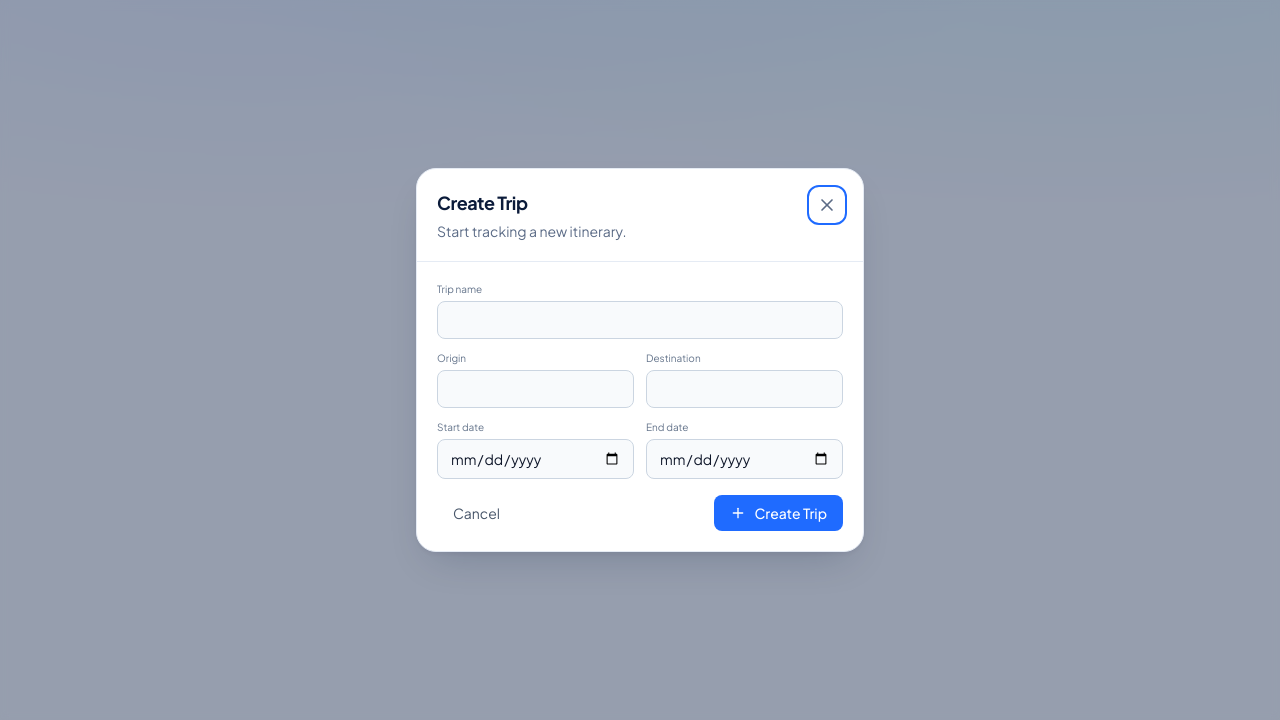
Scenario: CreateTripModal › rejects an end date before the start date
In the field labelled "Trip name": [640, 320] box [437, 301, 843, 339], type "Kyoto Weekend"
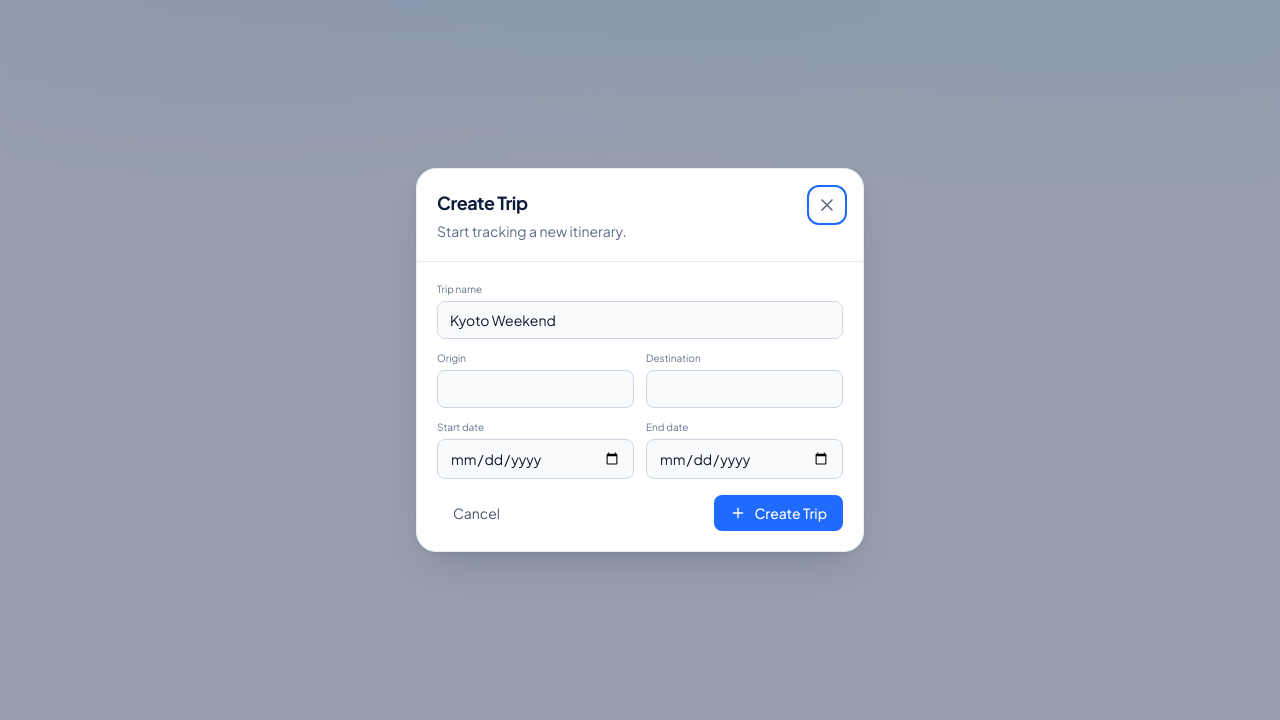
In the field labelled "Origin": [536, 389] box [437, 370, 634, 408], type "Tokyo"
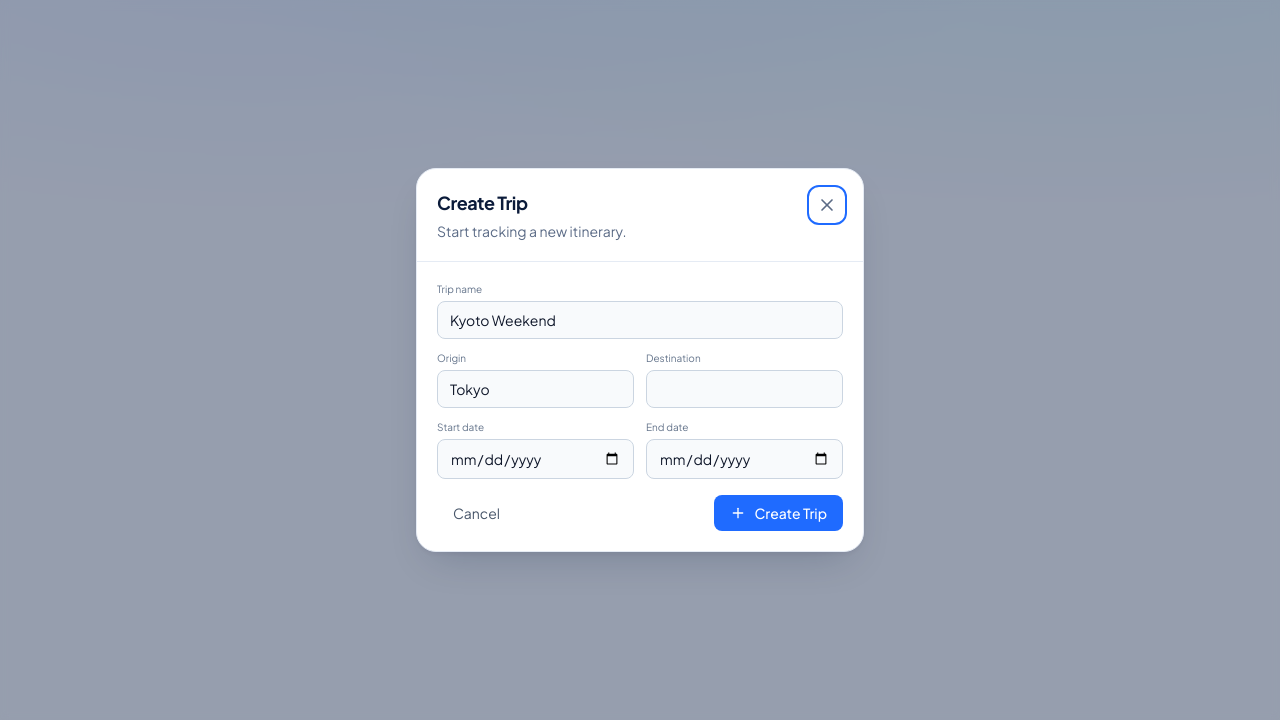
In the field labelled "Destination": [744, 389] box [646, 370, 843, 408], type "Kyoto"
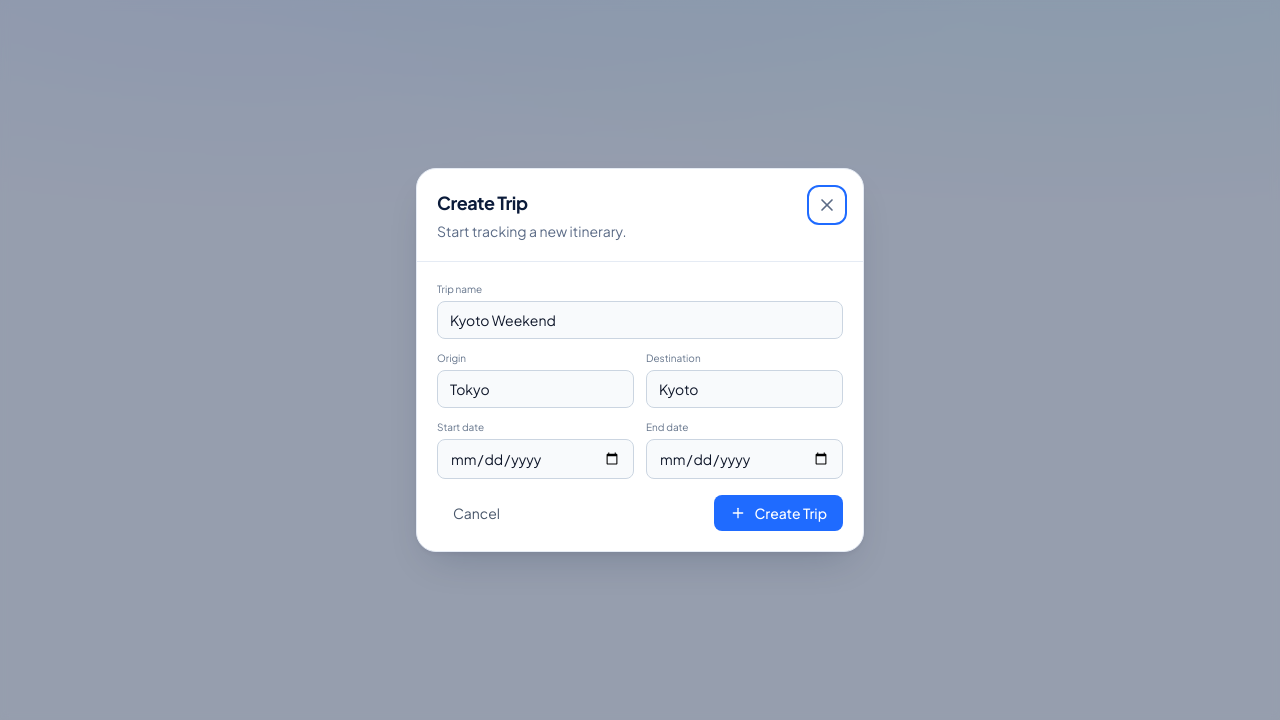
In the date field labelled "Start date": [536, 459] box [437, 439, 634, 479], type "2026-04-13"
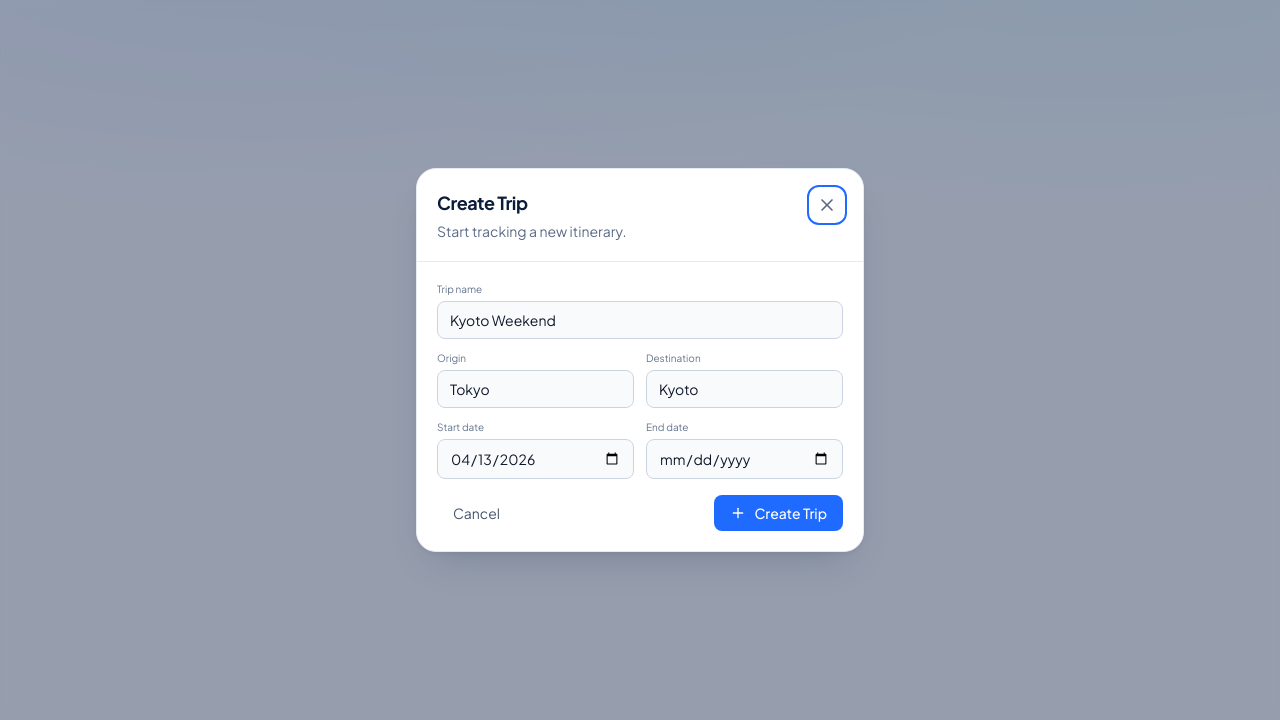
In the date field labelled "End date": [744, 459] box [646, 439, 843, 479], type "2026-04-10"
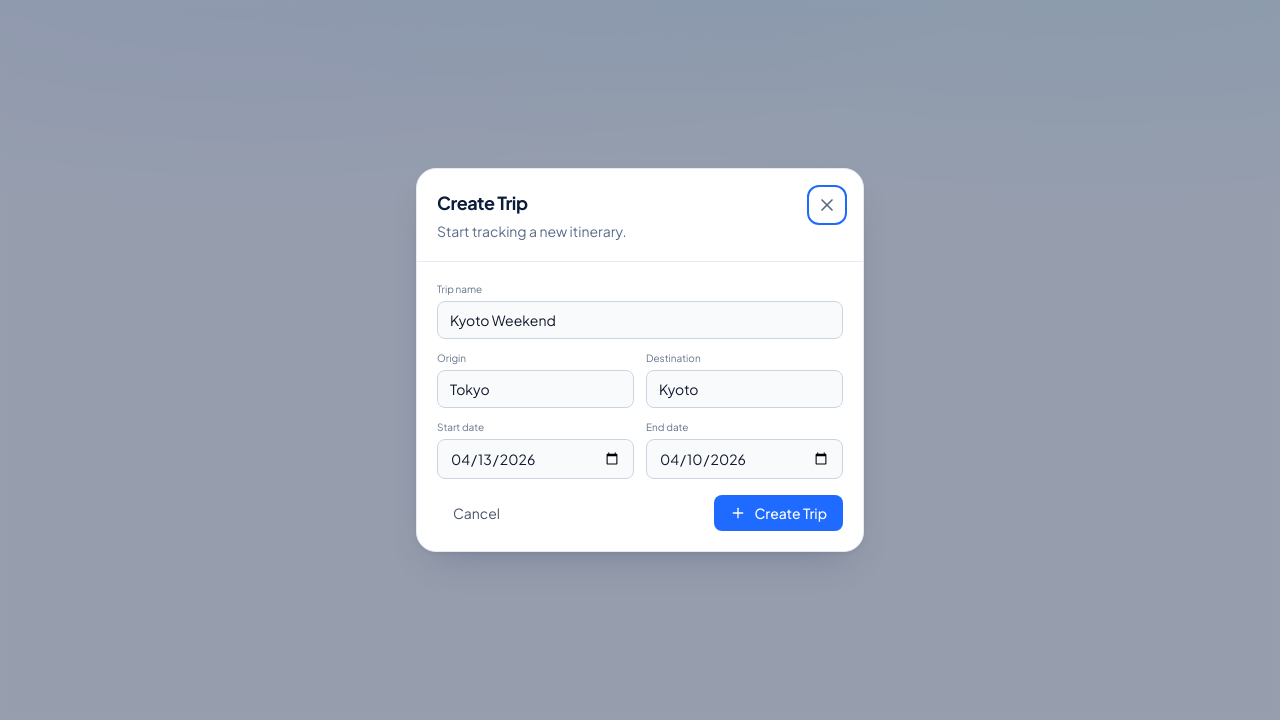
Click the button "Create Trip": [779, 513] box [714, 495, 843, 531]
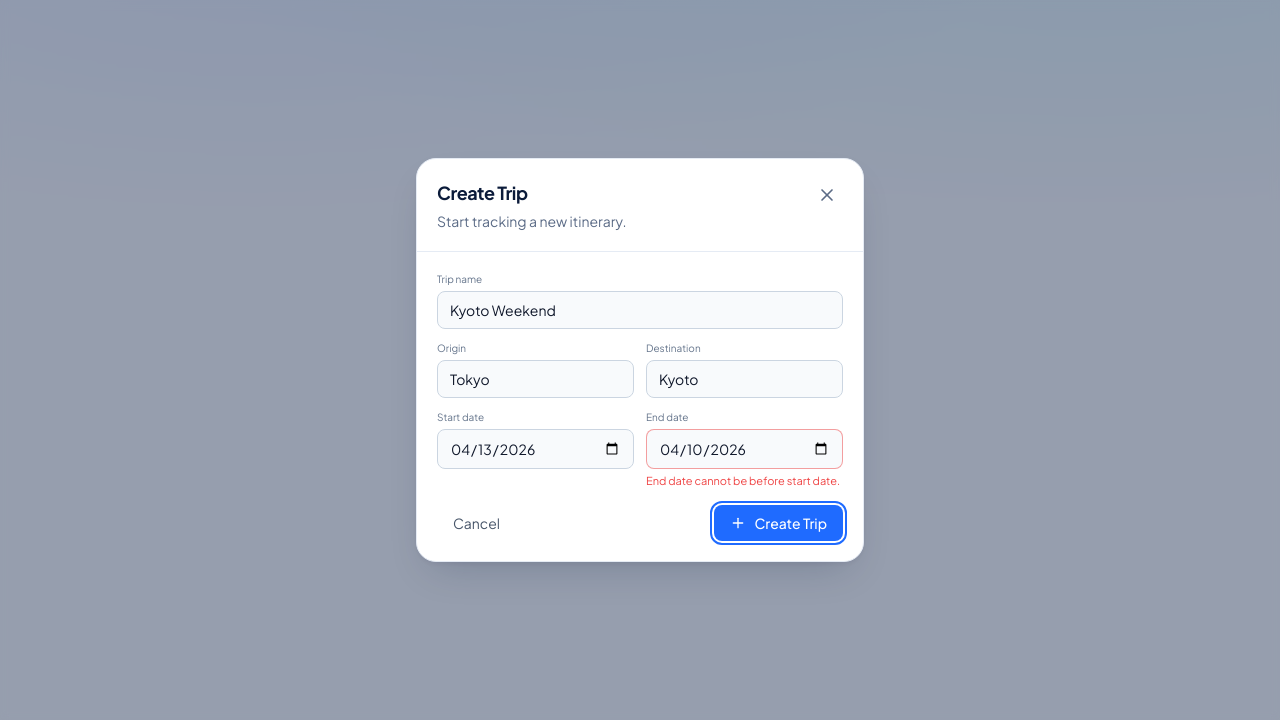
Expected: the text "End date cannot be before start date." is shown, [646, 473, 843, 489]
